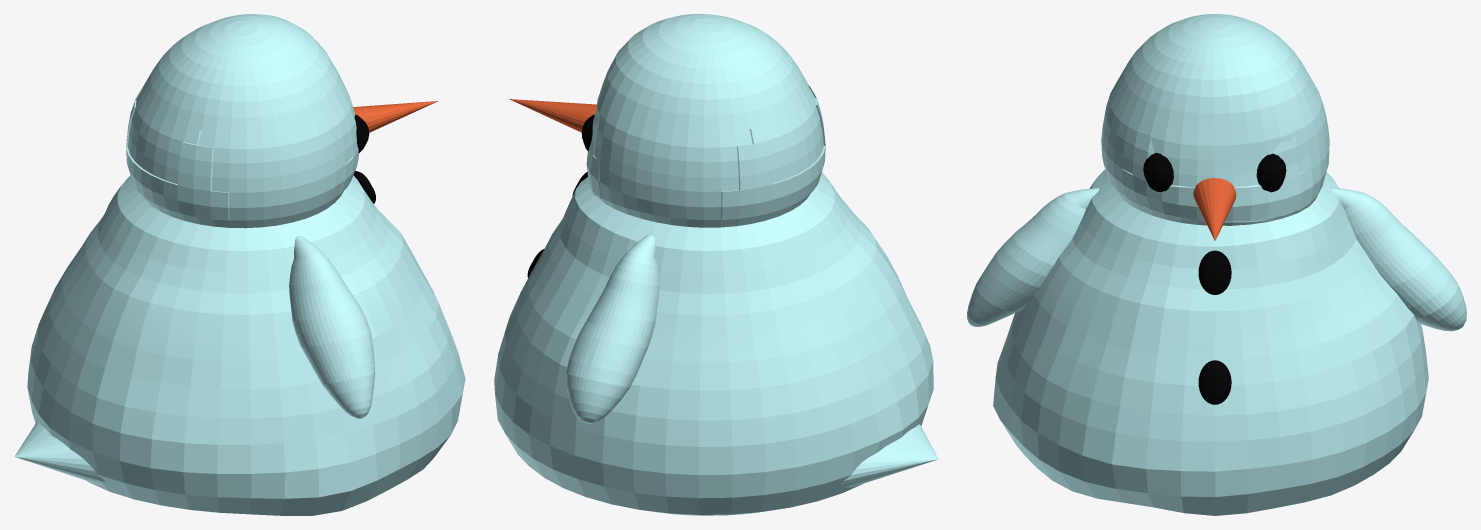
File: snowguin.fbx
The picture shows the model from 3 angles, left to right: view 1: azimuth 30°, elevation 25°; view 2: azimuth 150°, elevation 25°; view 3: azimuth 270°, elevation 25°; orthographic projection.
Visible parts, largest first — view 1: snowguin; view 2: snowguin; view 3: snowguin.
Part boxes in pixels (x1,y1,x2,y2): snowguin: [14, 14, 465, 515]; snowguin: [494, 14, 938, 515]; snowguin: [967, 14, 1466, 515].
Bounding box in the file's own units: 323 × 308 × 328.
